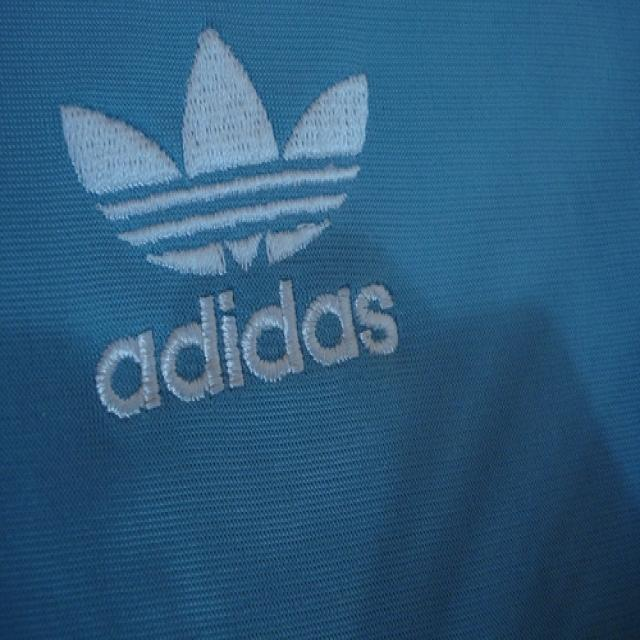adidas: (46, 22, 412, 435)
